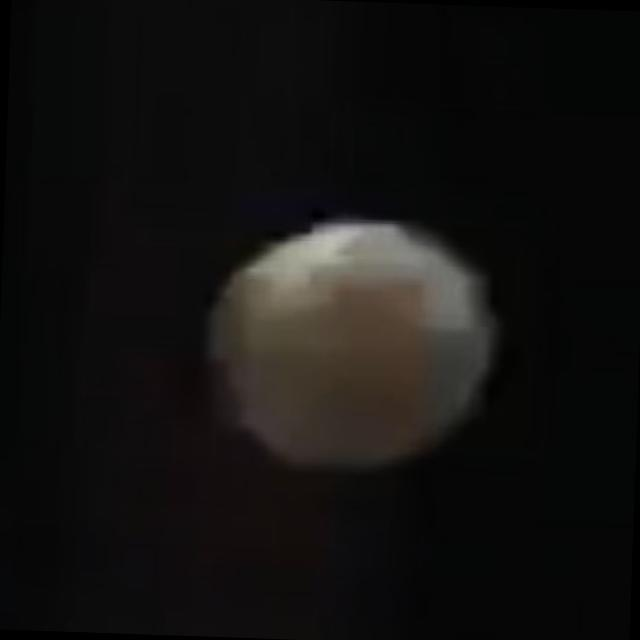ball: (174, 191, 510, 485)
